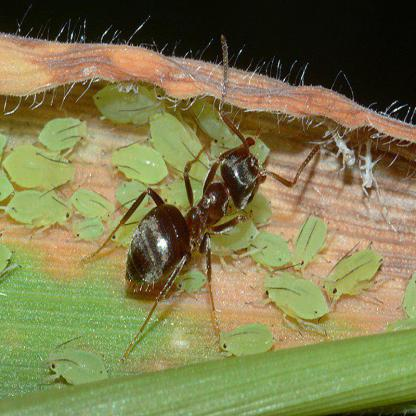schizaphis graminum: (151, 111, 208, 180), (327, 246, 385, 301), (264, 275, 330, 323), (5, 147, 78, 188), (115, 141, 169, 182), (9, 192, 74, 225), (48, 349, 109, 384), (292, 219, 331, 269), (220, 324, 271, 358), (41, 118, 87, 149)
